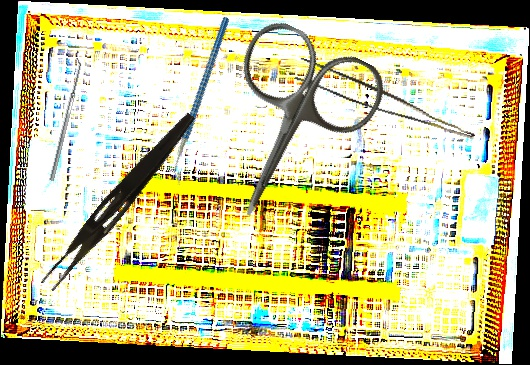Chopper: (124, 15, 280, 187)
Dressing Forceps: (39, 104, 199, 298)
Iris Scissors: (180, 12, 396, 247)
Spatula Surgical: (45, 57, 84, 182)
Tissue Forceps: (292, 57, 482, 140)
